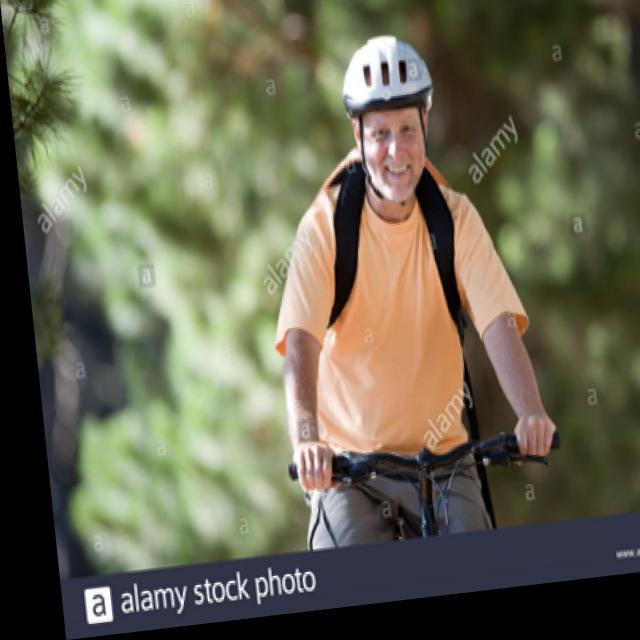Helmet: (337, 33, 436, 204)
